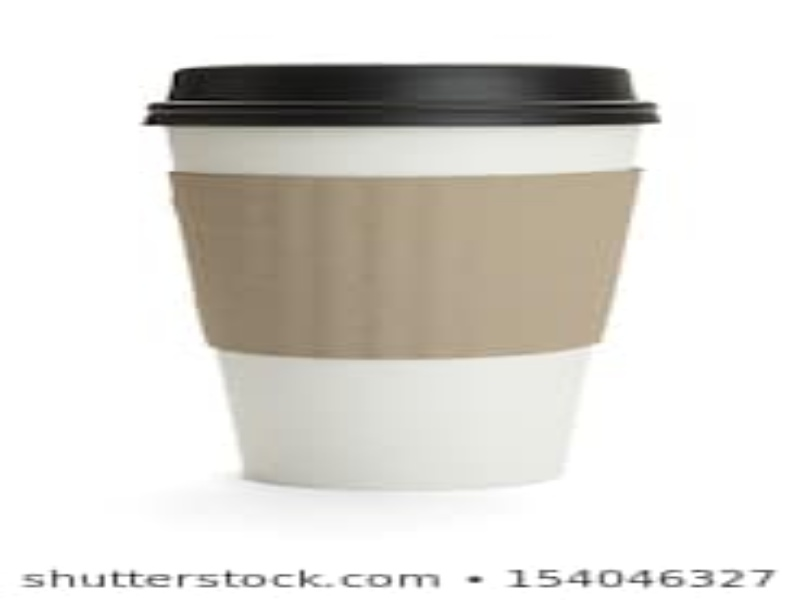coffee-lid: (141, 62, 668, 126)
plastic-cup: (138, 64, 664, 492)
